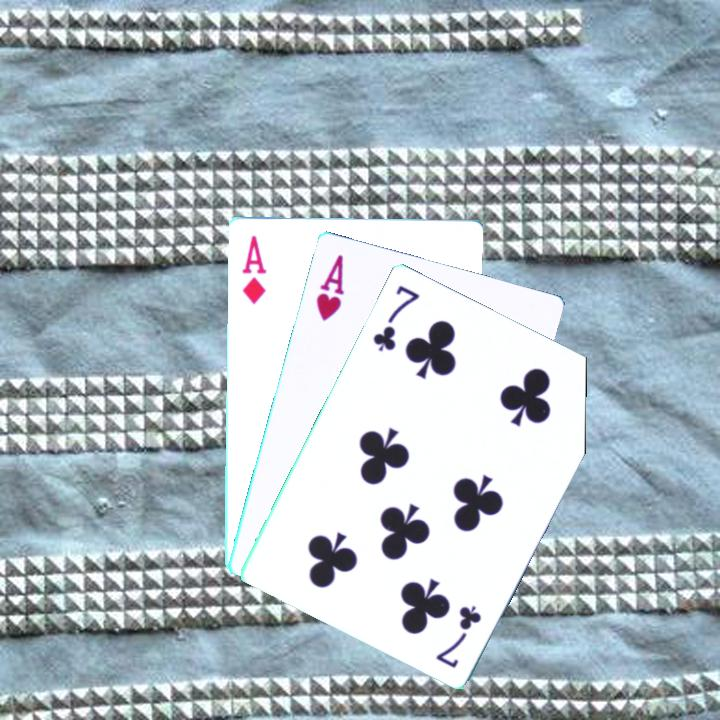7c: (369, 281, 422, 354), (432, 601, 484, 670)
Ad: (238, 231, 269, 307)
Ah: (312, 250, 347, 324)
